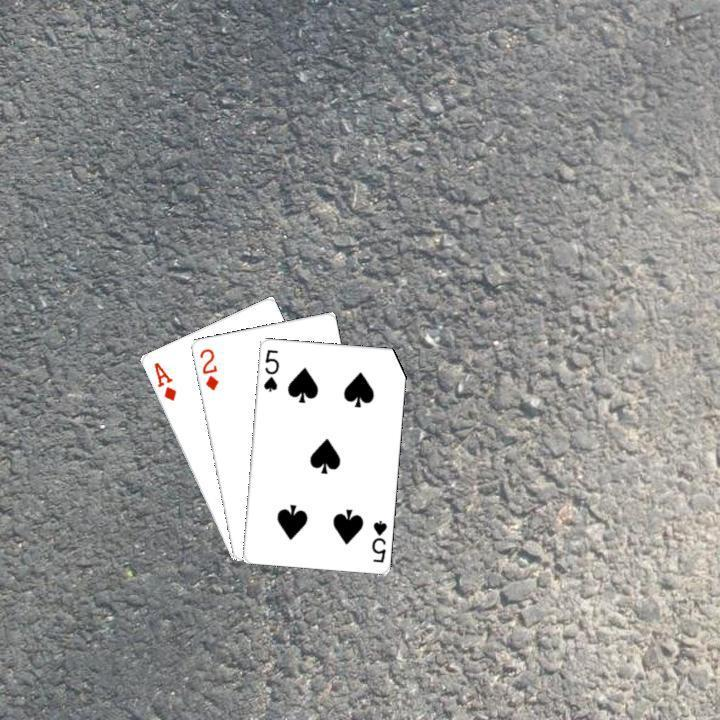2: (195, 344, 220, 392)
5: (259, 345, 281, 393), (367, 515, 388, 564)
A: (149, 357, 178, 403)
